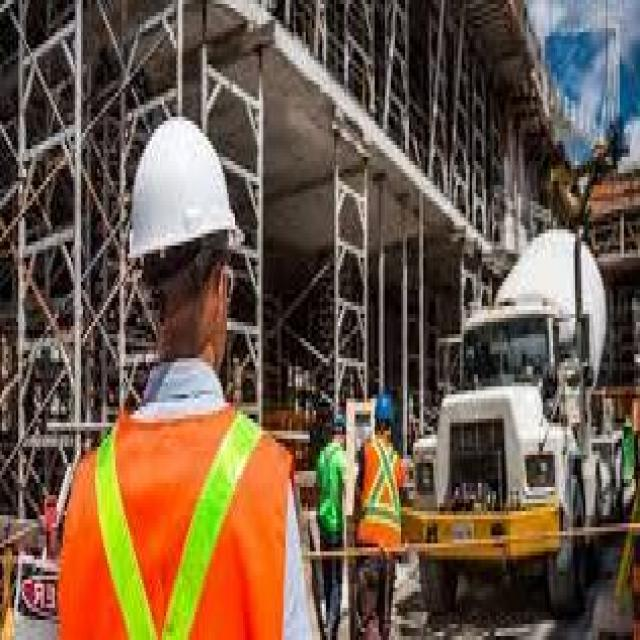Reflective-Jacket: (56, 378, 294, 640), (357, 438, 407, 560)
Safety-Helmet: (122, 108, 239, 270), (373, 390, 393, 422)
